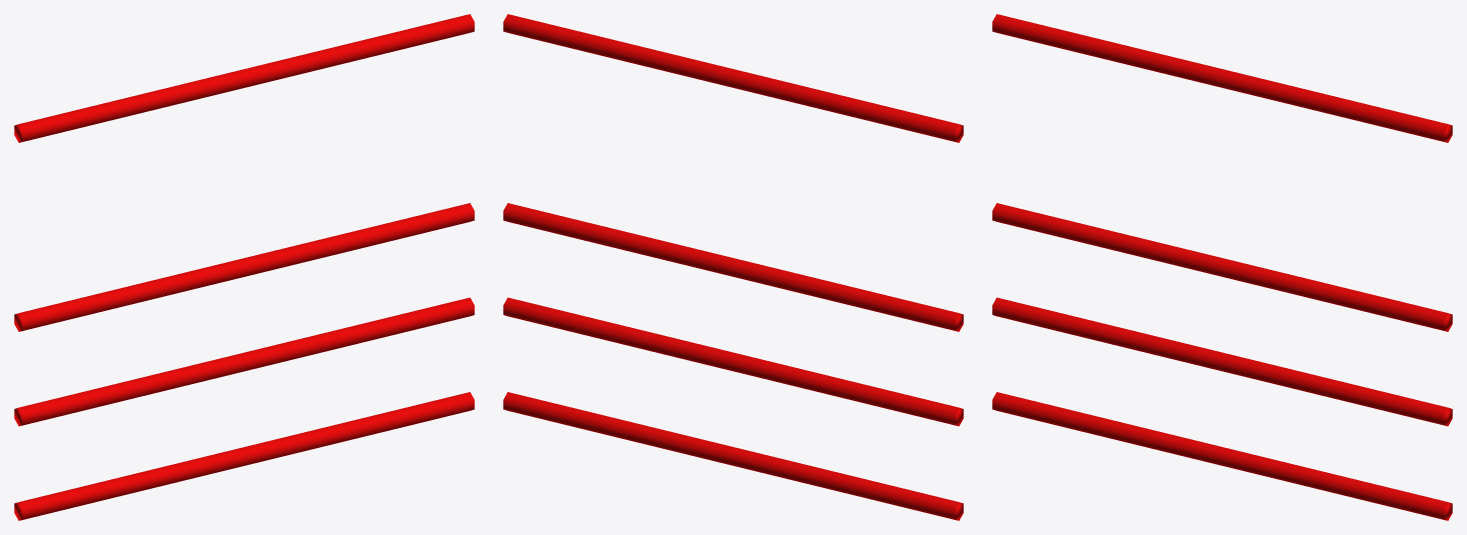
The model's file is Railing.fbx.
The picture shows the model from 3 angles, left to right: view 1: azimuth 30°, elevation 25°; view 2: azimuth 150°, elevation 25°; view 3: azimuth 330°, elevation 25°; orthographic projection.
Visible parts, largest first — view 1: polySurface107; view 2: polySurface107; view 3: polySurface107.
Part boxes in pixels (bbox=[...]): polySurface107: bbox=[14, 14, 474, 520]; polySurface107: bbox=[503, 14, 963, 520]; polySurface107: bbox=[992, 14, 1452, 520].
Size of the model in its own units: 1 by 0.84 by 0.0346.
